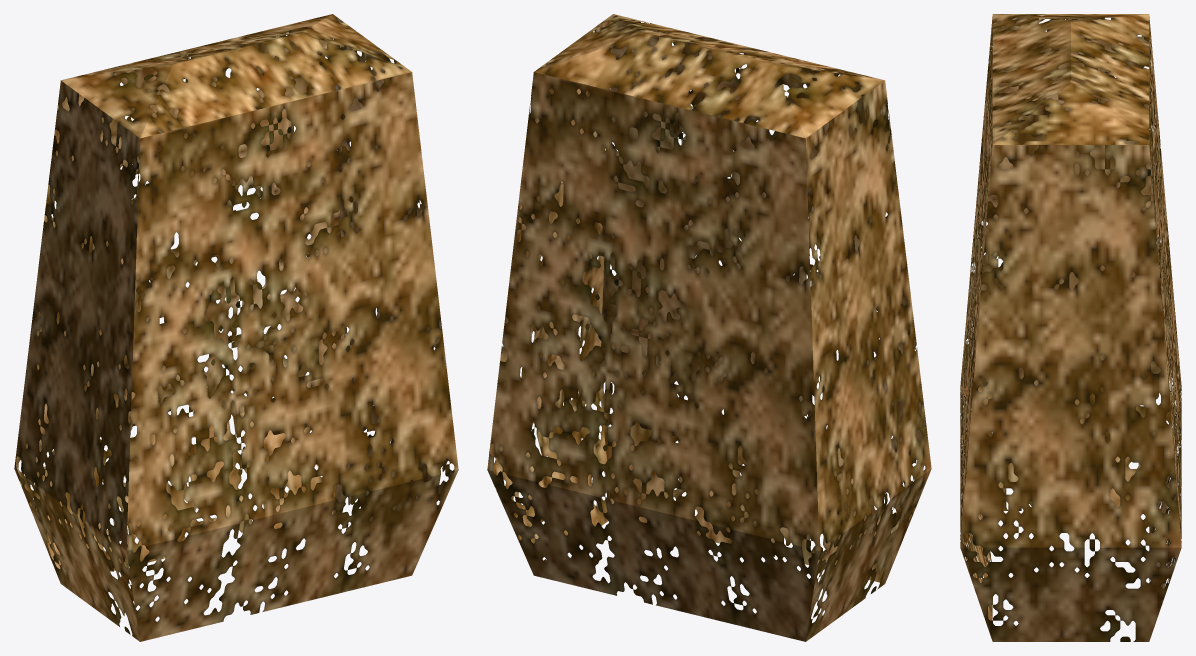
File: bush_tall_half_single_autumn.fbx
The picture shows the model from 3 angles, left to right: view 1: azimuth 30°, elevation 25°; view 2: azimuth 150°, elevation 25°; view 3: azimuth 270°, elevation 25°; orthographic projection.
Parts seen in each view (by area): view 1: bush_tall_half_single_autumn; view 2: bush_tall_half_single_autumn; view 3: bush_tall_half_single_autumn.
Boxes of the visible parts, x1,y1,x2,y2 form: bush_tall_half_single_autumn: [14, 14, 458, 641]; bush_tall_half_single_autumn: [487, 14, 931, 641]; bush_tall_half_single_autumn: [960, 14, 1181, 641].
Size of the model in its own units: 123 by 188 by 71.91.
Materials: 1 (1 with a texture image).
